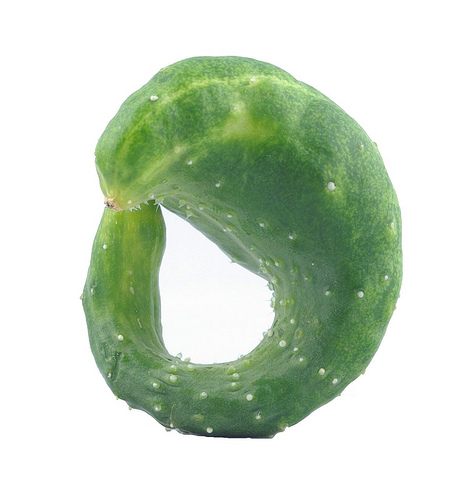cucumber: (77, 53, 404, 441)
